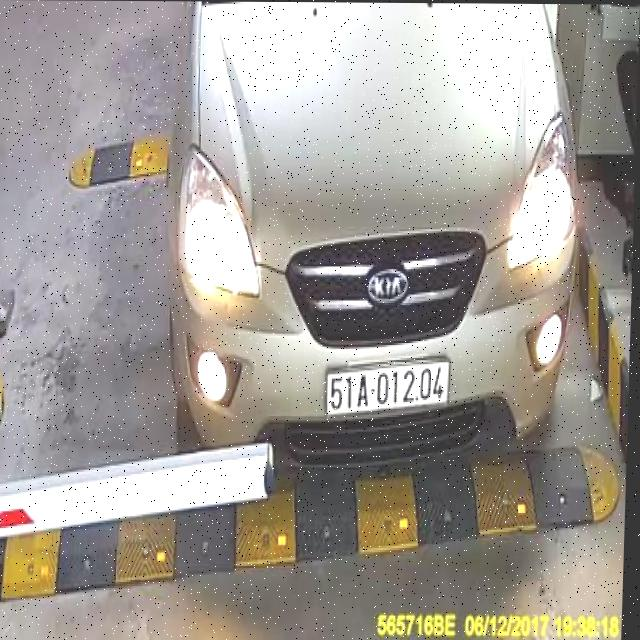car: (159, 2, 585, 475)
plate: (323, 356, 451, 419)
